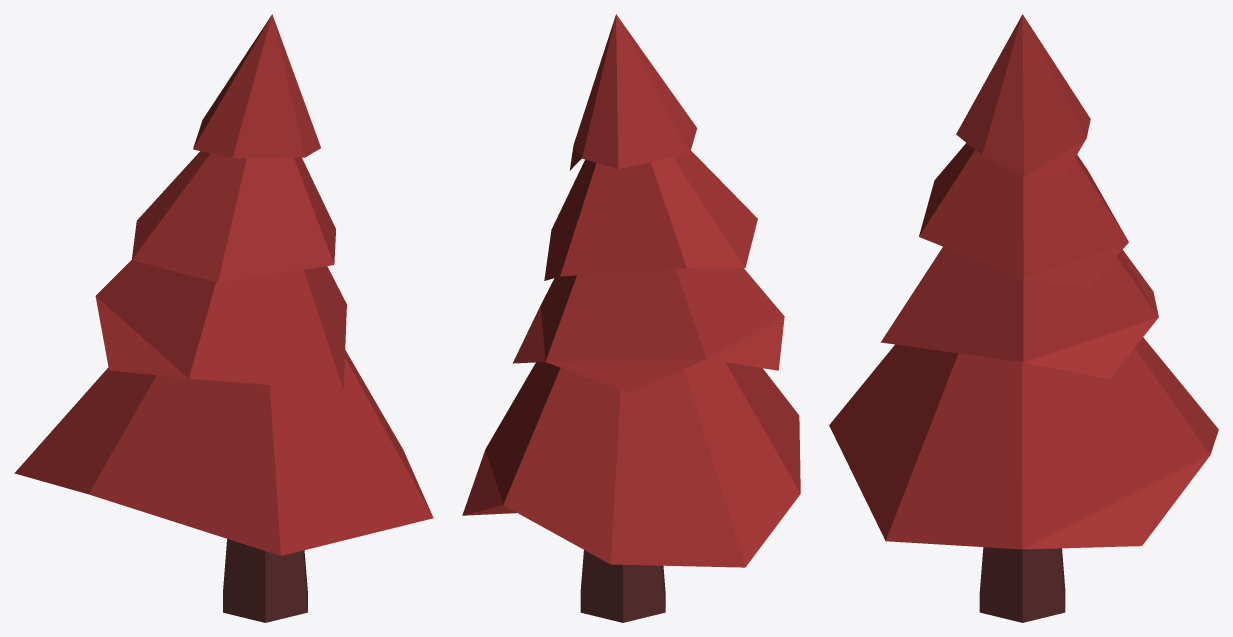
File: Tree_05.fbx
The picture shows the model from 3 angles, left to right: view 1: azimuth 30°, elevation 25°; view 2: azimuth 150°, elevation 25°; view 3: azimuth 270°, elevation 25°; orthographic projection.
Visible parts, largest first — view 1: Tree_05_LOD1; view 2: Tree_05_LOD1; view 3: Tree_05_LOD1.
Part boxes in pixels (box(x1,y1,x2,y2)): Tree_05_LOD1: box(14, 14, 433, 622); Tree_05_LOD1: box(462, 14, 800, 622); Tree_05_LOD1: box(829, 14, 1218, 622).
Bounding box in the file's own units: 213 × 367 × 219.
